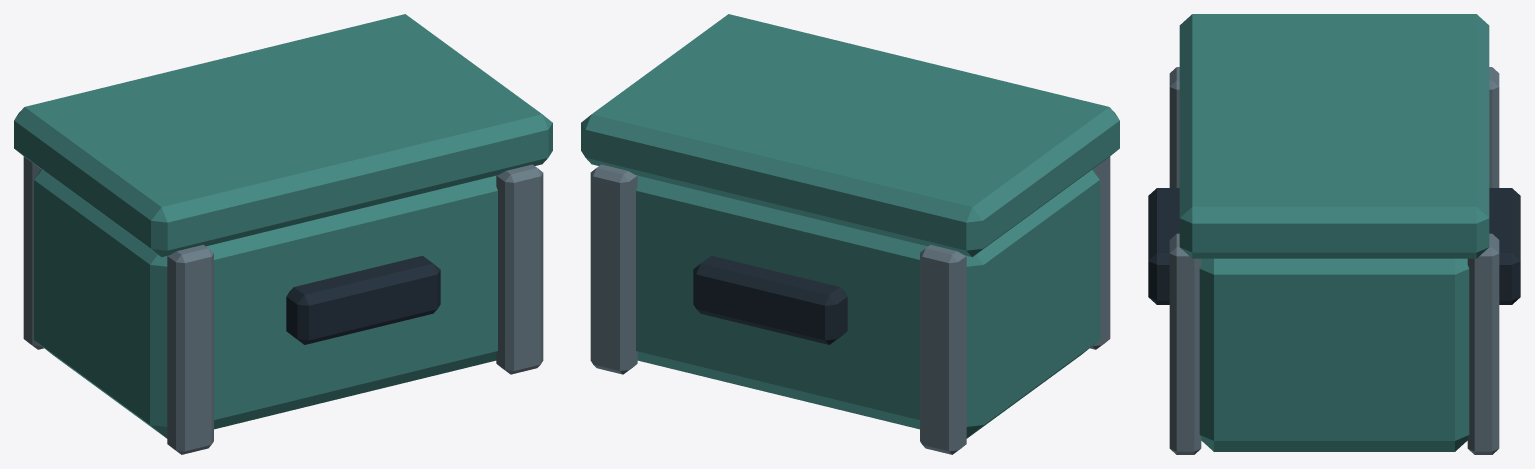
Rendered from props-supply-case.lod0.glb.
3 renders of one model, left to right at view 1: azimuth 30°, elevation 25°; view 2: azimuth 150°, elevation 25°; view 3: azimuth 270°, elevation 25°, orthographic. The views are drawn at different scales.
Visible parts, largest first — view 1: props-supply-case__body, props-supply-case__lid; view 2: props-supply-case__body, props-supply-case__lid; view 3: props-supply-case__lid, props-supply-case__body.
Boxes of the visible parts, box(x1,y1,x2,y2) form: props-supply-case__body: box(23, 156, 543, 454); props-supply-case__lid: box(14, 14, 552, 257); props-supply-case__body: box(590, 156, 1110, 454); props-supply-case__lid: box(581, 14, 1119, 257); props-supply-case__lid: box(1179, 14, 1489, 258); props-supply-case__body: box(1148, 67, 1520, 454).
Size of the model in its own units: 0.84 by 0.49 by 0.65.
